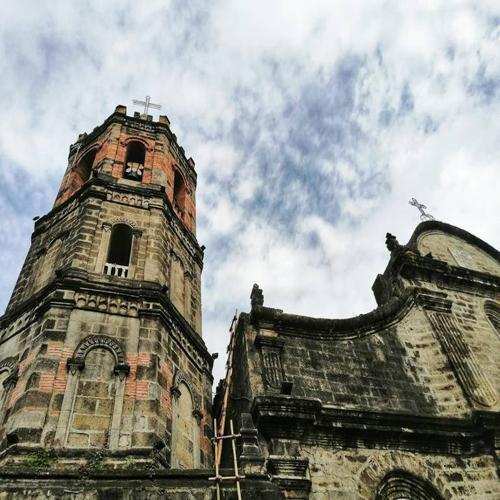Barasoain Church: (7, 53, 500, 500)
